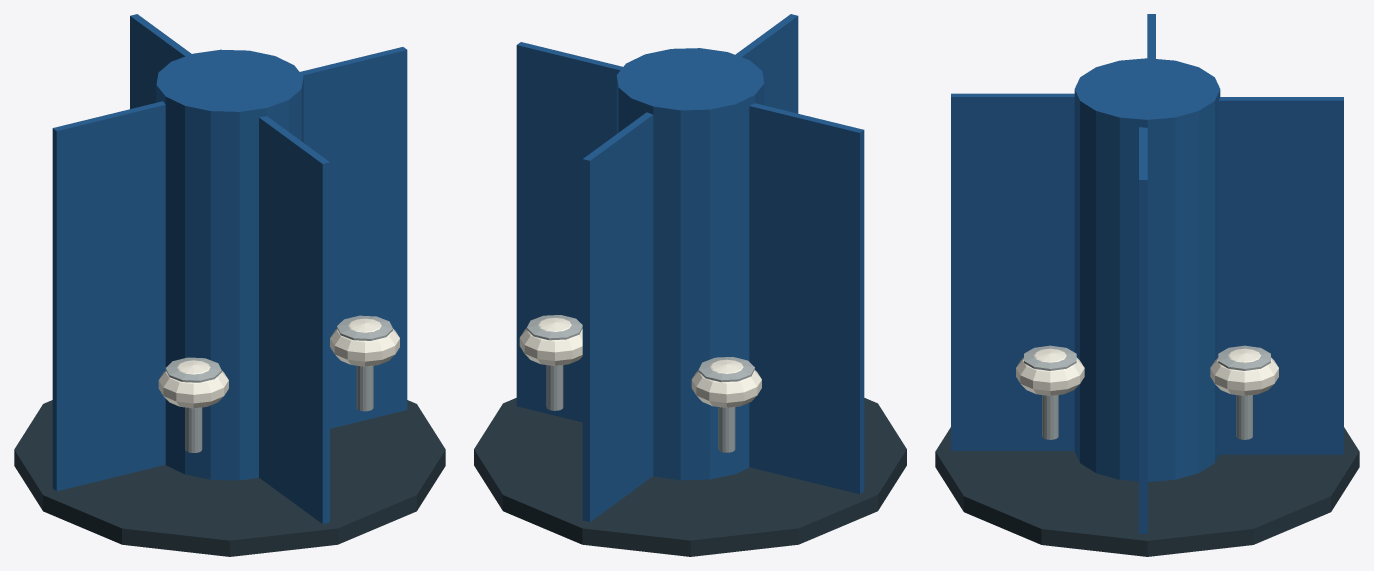
Rendered from scendance-plan-mens-urinal-pod.glb.
3 views of the same model, side by side, from view 1: azimuth 30°, elevation 25°; view 2: azimuth 150°, elevation 25°; view 3: azimuth 270°, elevation 25° (orthographic). The views are drawn at different scales.
Bounding box in the file's own units: 1.92 × 1.89 × 1.92.
